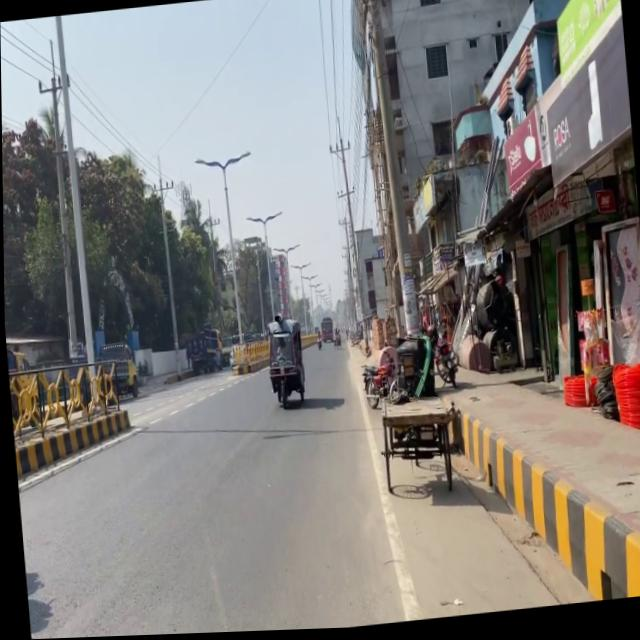Construction-barrier: (12, 424, 143, 492), (297, 333, 318, 351)
Fallen-tree: (357, 339, 408, 412), (427, 327, 459, 394), (330, 332, 340, 352), (314, 335, 320, 351)
Light-pole: (53, 14, 96, 378)
Pothole: (449, 387, 640, 615)
Traffic-cone: (375, 396, 461, 501), (262, 318, 305, 411), (92, 341, 138, 403), (181, 326, 223, 377), (317, 318, 334, 345)
